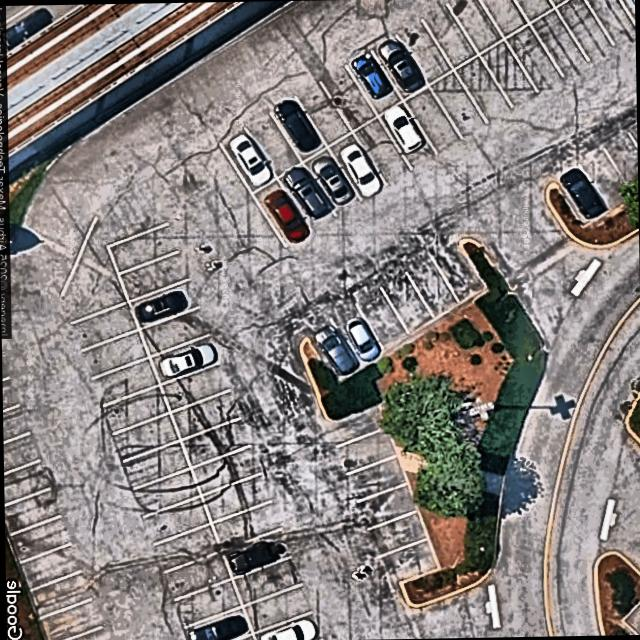car: (261, 184, 313, 250), (224, 127, 276, 193), (334, 136, 386, 202), (306, 146, 358, 212), (273, 94, 325, 159), (281, 162, 332, 227), (554, 162, 607, 224), (309, 319, 361, 381), (373, 34, 425, 95), (222, 533, 286, 577), (376, 100, 426, 156), (346, 47, 395, 103), (338, 310, 385, 366), (156, 339, 217, 381), (134, 285, 192, 326), (182, 610, 249, 640), (254, 615, 321, 640)
lot_boundary: (0, 0, 638, 640)
objects: (300, 241, 548, 609), (547, 184, 638, 248)
stall: (216, 125, 275, 194), (376, 99, 435, 168), (317, 62, 376, 131), (292, 78, 351, 147), (267, 93, 326, 162), (393, 16, 452, 85), (427, 70, 486, 139), (418, 1, 477, 70), (478, 39, 537, 108), (502, 21, 561, 90), (250, 178, 309, 246), (242, 109, 300, 178), (402, 84, 460, 153), (276, 163, 334, 232), (341, 46, 399, 115), (368, 32, 426, 101), (453, 54, 511, 123), (527, 6, 585, 75), (352, 116, 410, 184), (328, 132, 386, 200), (301, 147, 359, 215), (221, 528, 292, 578), (555, 0, 614, 59), (139, 306, 210, 355), (199, 472, 270, 521), (208, 501, 279, 550), (168, 390, 239, 439), (129, 467, 200, 516), (158, 363, 228, 412), (149, 335, 219, 384), (128, 280, 198, 329), (118, 251, 188, 300), (107, 224, 177, 273), (231, 556, 301, 605), (241, 582, 311, 631), (160, 550, 230, 599), (170, 579, 240, 628), (179, 418, 249, 467), (119, 440, 189, 489), (139, 495, 209, 544), (149, 523, 219, 572), (98, 385, 168, 434), (88, 357, 158, 406), (108, 413, 178, 462), (190, 446, 260, 494), (78, 330, 148, 378), (68, 302, 138, 350), (553, 162, 606, 223), (443, 0, 502, 54), (380, 272, 432, 333), (331, 305, 383, 366), (404, 256, 456, 317), (431, 242, 483, 303), (355, 290, 407, 351), (577, 146, 629, 206), (308, 322, 361, 380), (356, 482, 418, 530), (346, 455, 408, 503), (335, 427, 397, 475), (374, 539, 436, 587), (7, 516, 69, 564), (28, 571, 90, 619), (18, 544, 80, 591), (365, 510, 426, 557), (3, 488, 59, 535), (328, 404, 387, 448), (38, 600, 100, 640), (600, 128, 638, 190), (585, 0, 635, 45), (184, 607, 251, 640), (478, 0, 528, 39), (3, 461, 46, 505), (252, 612, 318, 640), (2, 432, 36, 474), (512, 0, 553, 24), (2, 406, 27, 442)
